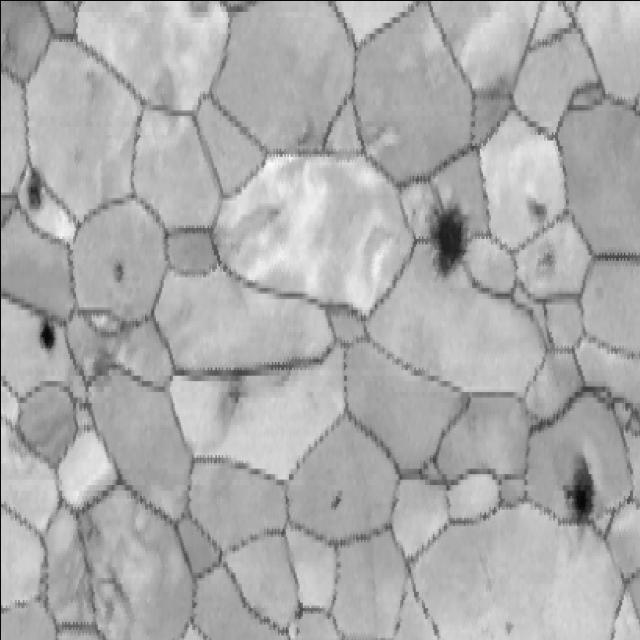good_void: (427, 202, 466, 281), (91, 569, 131, 628), (566, 465, 597, 530), (73, 494, 103, 560), (88, 343, 118, 397), (215, 376, 247, 420), (19, 173, 45, 216), (531, 238, 558, 279), (526, 183, 547, 229), (41, 310, 63, 351), (293, 118, 319, 148), (325, 480, 346, 515), (0, 24, 17, 63), (107, 253, 127, 285), (292, 598, 309, 629), (499, 614, 518, 638)
